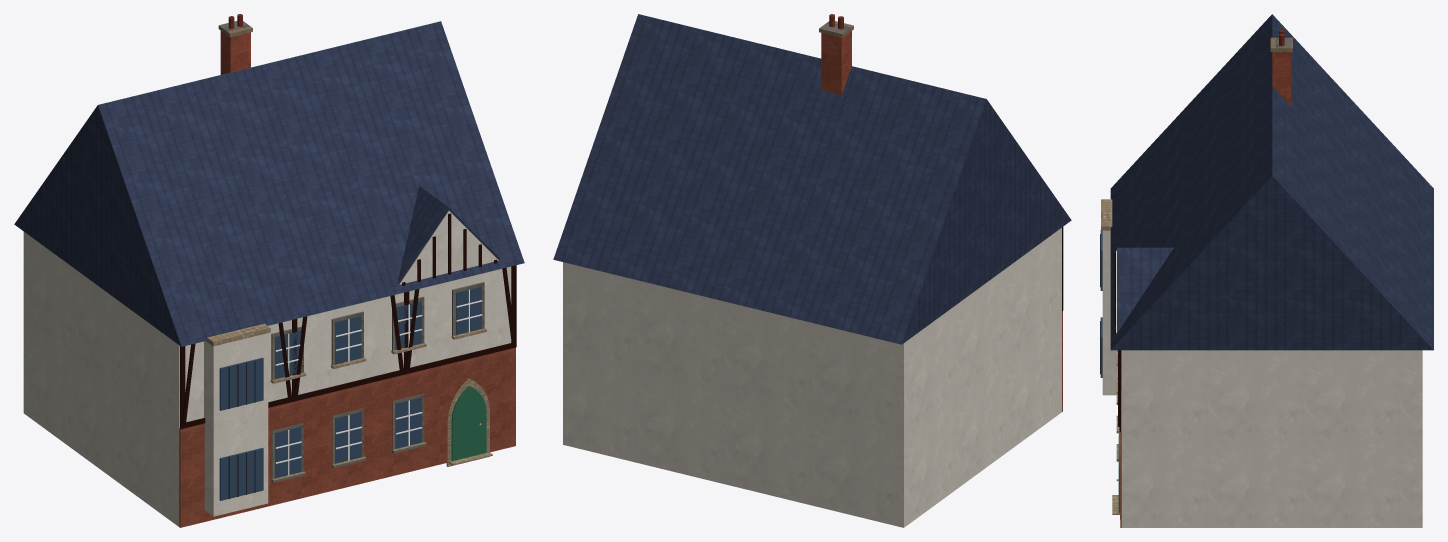
The model's file is tudor_w12_1.gltf.
3 renders of one model, left to right at view 1: azimuth 30°, elevation 25°; view 2: azimuth 150°, elevation 25°; view 3: azimuth 270°, elevation 25°, orthographic. The views are drawn at different scales.
Visible parts, largest first — view 1: tudor_w12_1; view 2: tudor_w12_1; view 3: tudor_w12_1.
Part boxes in pixels (x1,y1,x2,y2): tudor_w12_1: (14,14,524,527); tudor_w12_1: (553,14,1071,527); tudor_w12_1: (1100,14,1433,527).
Size of what is drawn, in the model's own units: 11.96 by 14.01 by 10.43.
Materials: 8 (5 with a texture image).
